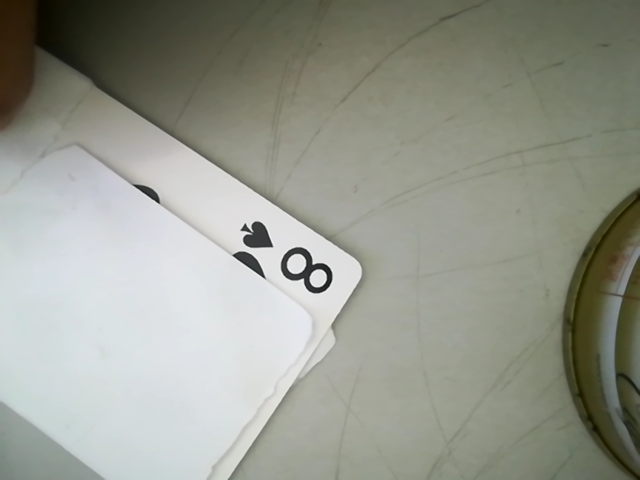ht 8: (221, 214, 352, 300)
